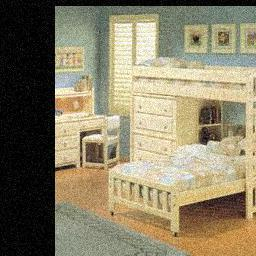Armario: (133, 93, 175, 157)
